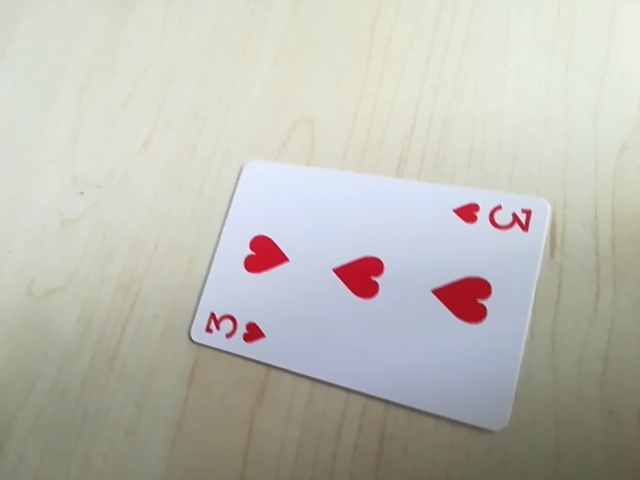hx 3: (450, 194, 541, 240), (199, 307, 268, 349)
